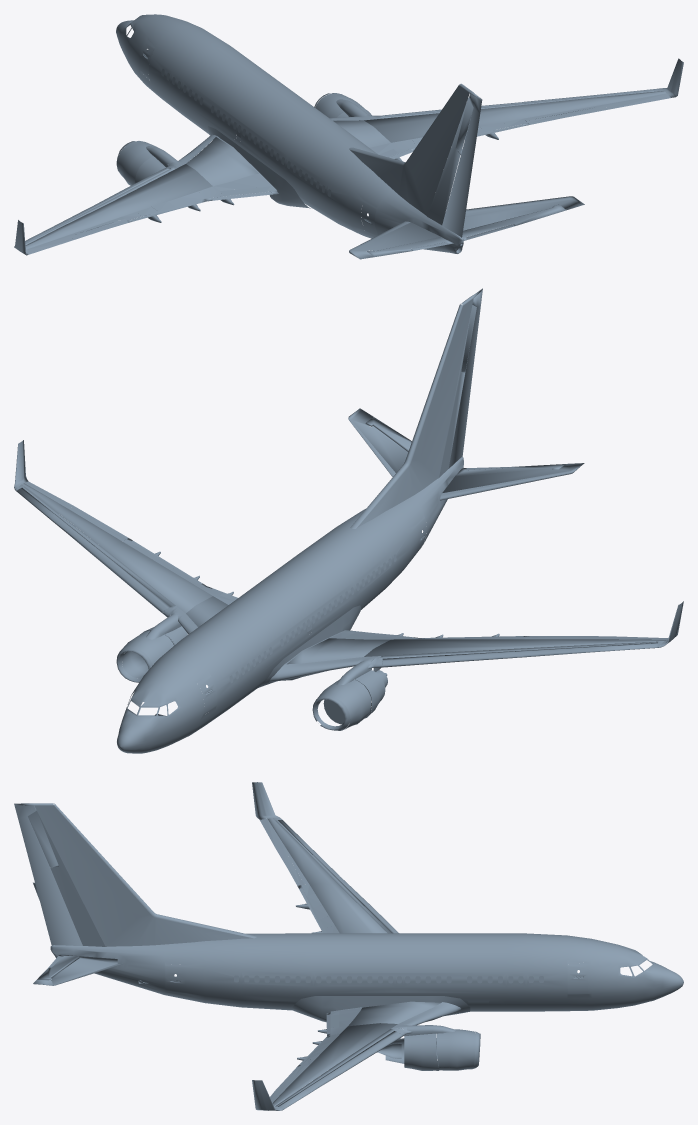
3 renders of one model, top to bottom at view 1: azimuth 30°, elevation 25°; view 2: azimuth 150°, elevation 25°; view 3: azimuth 270°, elevation 25°, orthographic. The views are drawn at different scales.
Bounding box in the file's own units: 34.85 × 12.04 × 33.12.
